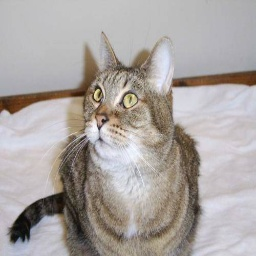cat: (6, 28, 203, 256)
